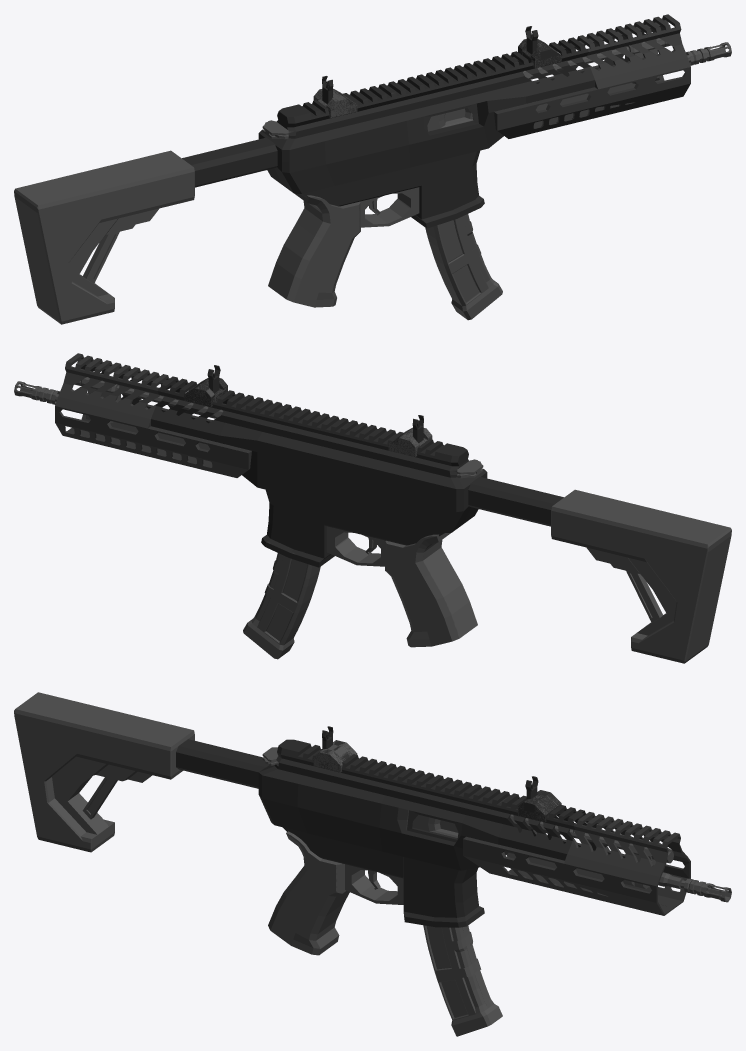
Rendered from MSX_Export.fbx.
The picture shows the model from 3 angles, top to bottom: view 1: azimuth 30°, elevation 25°; view 2: azimuth 150°, elevation 25°; view 3: azimuth 330°, elevation 25°; orthographic projection.
Parts seen in each view (by area): view 1: bolt; view 2: bolt; view 3: bolt.
Part boxes in pixels (x1,y1,x2,y2): bolt: [14, 14, 731, 324]; bolt: [14, 353, 731, 663]; bolt: [14, 692, 731, 1036].
Bounding box in the file's own units: 0.7889 × 0.29 × 0.0666.
